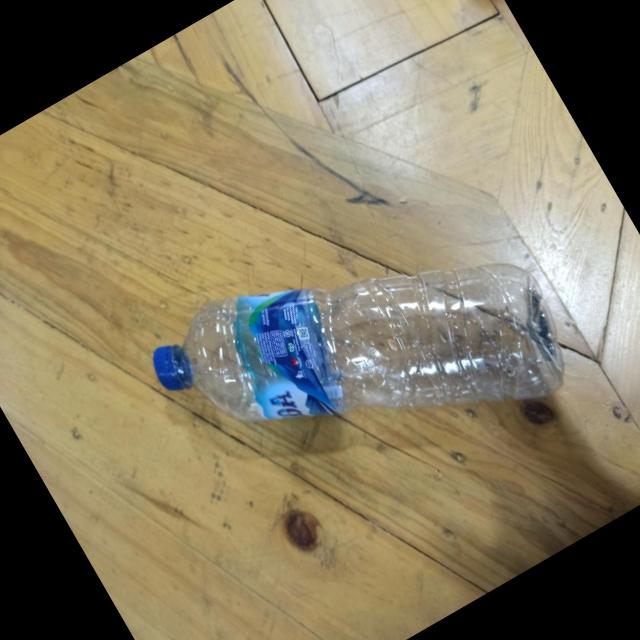BotolPlastik: (136, 152, 591, 561)
